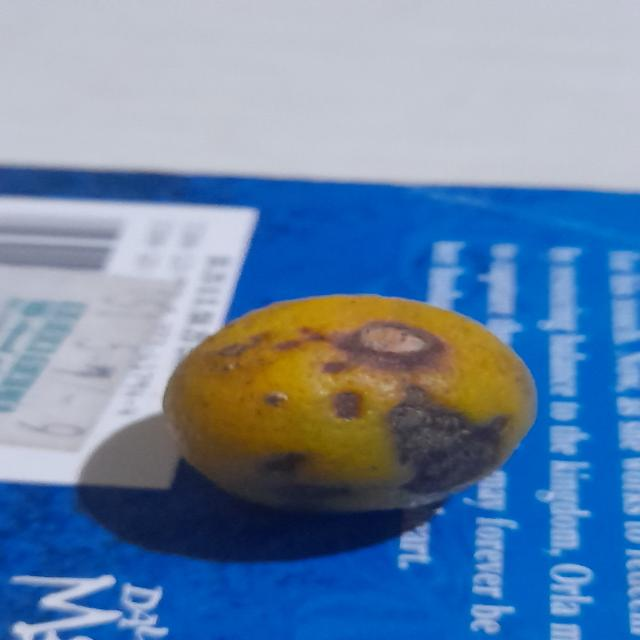black spot: (160, 289, 544, 514)
